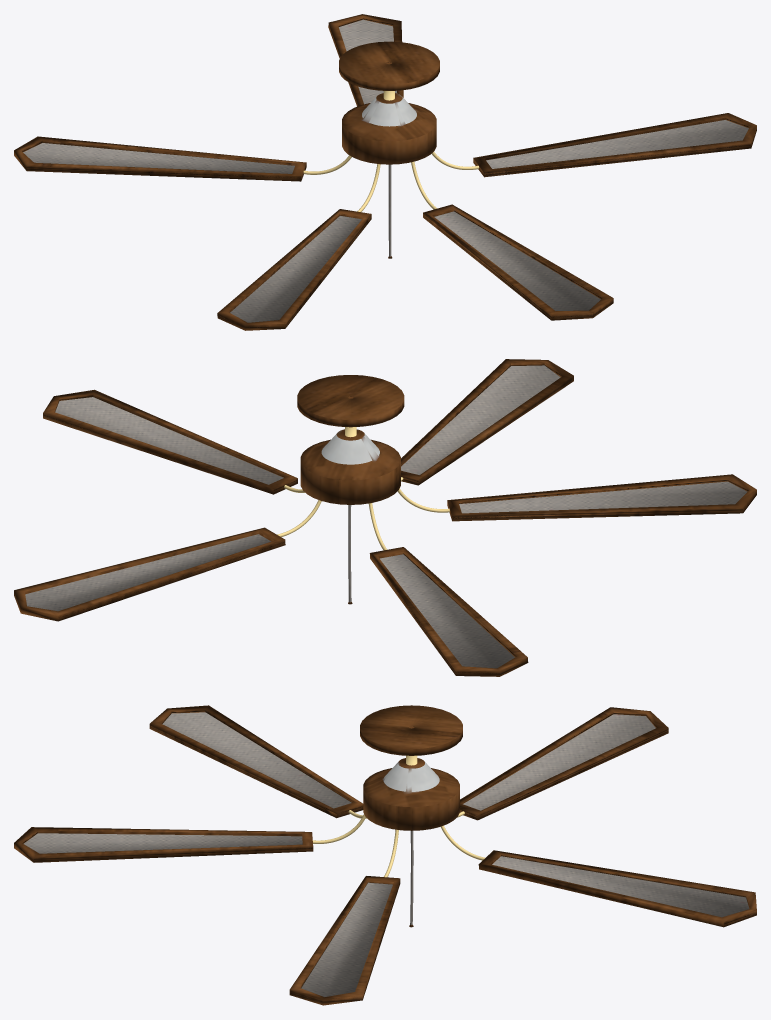
File: CeilingFan.fbx
3 renders of one model, top to bottom at view 1: azimuth 30°, elevation 25°; view 2: azimuth 150°, elevation 25°; view 3: azimuth 270°, elevation 25°, orthographic. The views are drawn at different scales.
Parts seen in each view (by area): view 1: CeilingFan; view 2: CeilingFan; view 3: CeilingFan.
Boxes of the visible parts, x1,y1,x2,y2 form: CeilingFan: [14, 14, 756, 330]; CeilingFan: [14, 359, 756, 676]; CeilingFan: [14, 705, 756, 1005].
Bounding box in the file's own units: 160 × 49.99 × 169.
1 material, 1 textured.
